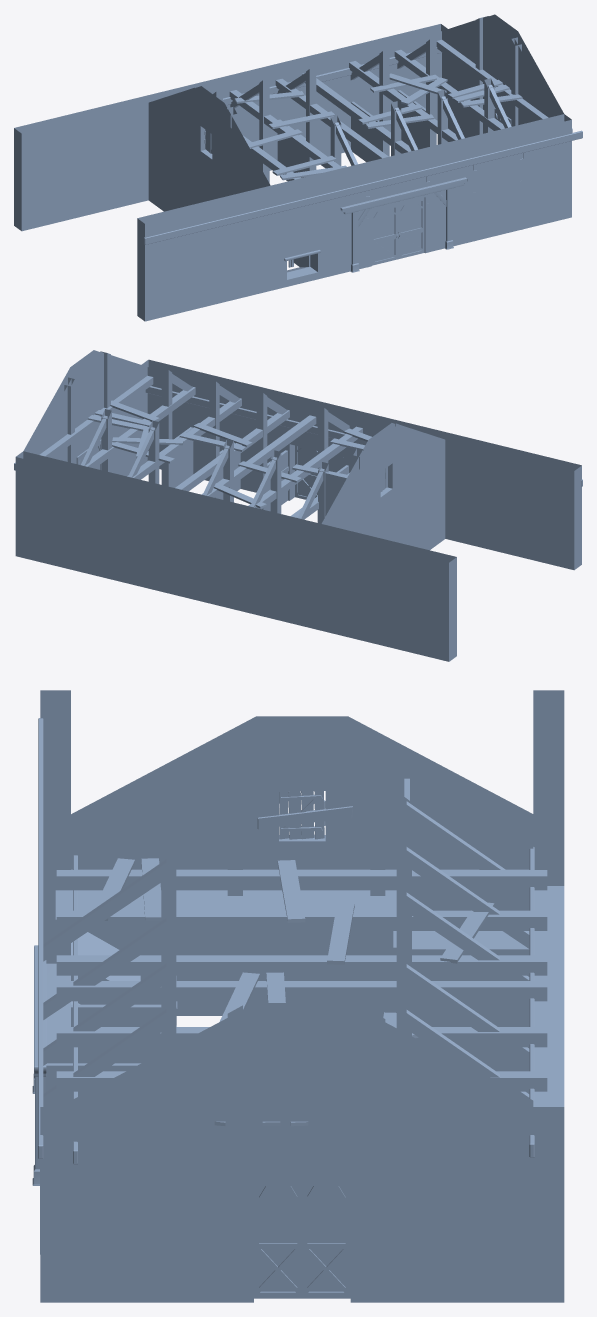
File: Barn_walls.fbx
3 renders of one model, top to bottom at view 1: azimuth 30°, elevation 25°; view 2: azimuth 150°, elevation 25°; view 3: azimuth 270°, elevation 25°, orthographic. The views are drawn at different scales.
Visible parts, largest first — view 1: Fireplace:Fireplace:Fireplace:Fireplace:Animal_stables10, Animal_stables2, Animal_stables44, Animal_stables13, pCube271, Animal_stables11, Animal_stables23, Animal_stables26, Animal_stables27, polySurface37, polySurface45, Beam24 (+14 smaller); view 2: Fireplace:Fireplace:Fireplace:Fireplace:Animal_stables10, Animal_stables2, Animal_stables44, Animal_stables13, Animal_stables11, Animal_stables31, Animal_stables29, Animal_stables30, Animal_stables24, pCube652, Animal_stables26, Animal_stables27 (+8 smaller); view 3: Animal_stables13, Animal_stables2, Animal_stables44, Fireplace:Fireplace:Fireplace:Fireplace:Animal_stables10, polySurface697, Animal_stables28, pCube466, Animal_stables24, Animal_stables23, Animal_stables25, Animal_stables29, Animal_stables11 (+18 smaller).
Boxes of the visible parts, <box> form: Fireplace:Fireplace:Fireplace:Fireplace:Animal_stables10: <box>14,24,571,321</box>; Animal_stables2: <box>148,86,270,211</box>; Animal_stables44: <box>229,39,548,181</box>; Animal_stables13: <box>442,14,563,137</box>; pCube271: <box>144,130,582,244</box>; Animal_stables11: <box>171,228,271,307</box>; Animal_stables23: <box>277,67,316,177</box>; Animal_stables26: <box>350,49,389,162</box>; Animal_stables27: <box>397,38,436,149</box>; polySurface37: <box>398,197,424,259</box>; polySurface45: <box>372,204,397,265</box>; Beam24: <box>340,177,467,214</box>; Fireplace:Fireplace:Fireplace:Fireplace:Animal_stables10: <box>15,359,581,661</box>; Animal_stables2: <box>321,423,445,550</box>; Animal_stables44: <box>39,375,362,519</box>; Animal_stables13: <box>23,350,147,476</box>; Animal_stables11: <box>445,475,522,546</box>; Animal_stables31: <box>161,368,193,487</box>; Animal_stables29: <box>256,391,287,511</box>; Animal_stables30: <box>209,380,240,499</box>; Animal_stables24: <box>250,450,281,513</box>; pCube652: <box>145,386,366,445</box>; Animal_stables26: <box>128,420,159,483</box>; Animal_stables27: <box>81,409,111,472</box>; Animal_stables13: <box>71,1003,533,1302</box>; Animal_stables2: <box>71,716,533,1015</box>; Animal_stables44: <box>56,870,547,1091</box>; Fireplace:Fireplace:Fireplace:Fireplace:Animal_stables10: <box>40,690,564,1302</box>; polySurface697: <box>254,1183,350,1298</box>; Animal_stables28: <box>43,849,176,1063</box>; pCube466: <box>55,890,396,924</box>; Animal_stables24: <box>396,837,529,1026</box>; Animal_stables23: <box>396,882,529,1093</box>; Animal_stables25: <box>396,791,529,980</box>; Animal_stables29: <box>43,908,176,1106</box>; Animal_stables11: <box>43,786,70,963</box>.
Bounding box in the file's own units: 3284 × 1150 × 1724.
